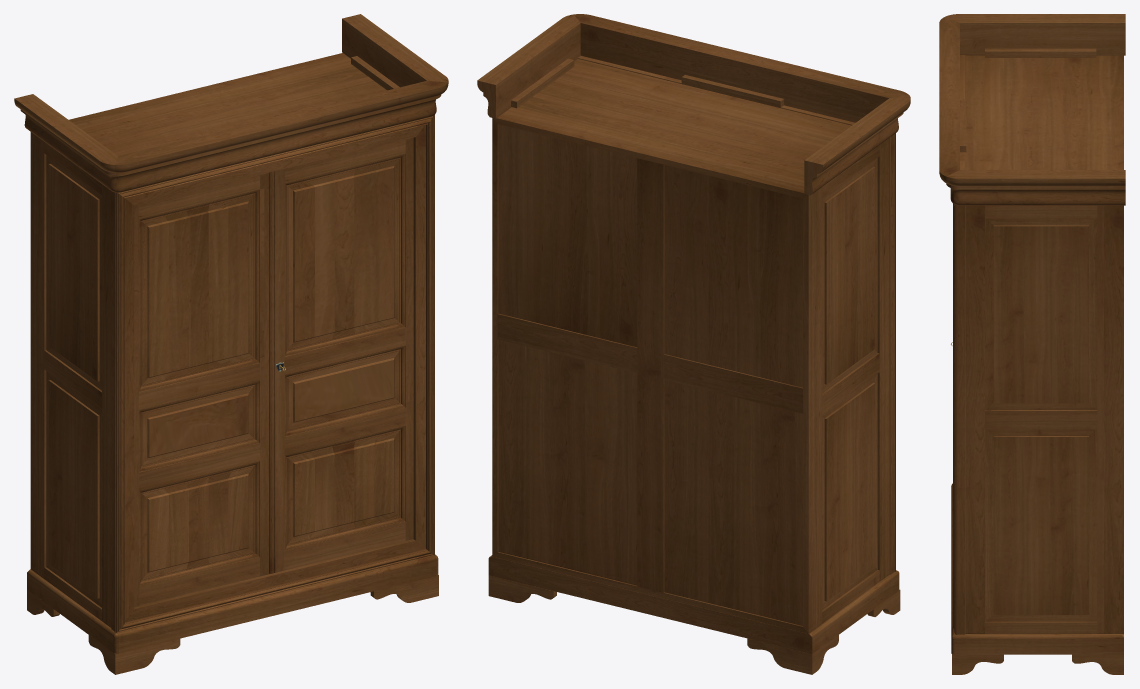
Rendered from wardrobe_armoire_antoine.glb.
3 views of the same model, side by side, from view 1: azimuth 30°, elevation 25°; view 2: azimuth 150°, elevation 25°; view 3: azimuth 270°, elevation 25° (orthographic). The views are drawn at different scales.
Visible parts, largest first — view 1: Object_4; view 2: Object_4; view 3: Object_4.
Part boxes in pixels (<box>): Object_4: <box>14,14,448,674</box>; Object_4: <box>477,14,910,674</box>; Object_4: <box>939,14,1125,674</box>.
Size of the model in its own units: 1.4 by 1.99 by 0.6688.
Materials: 7 (3 with a texture image).
